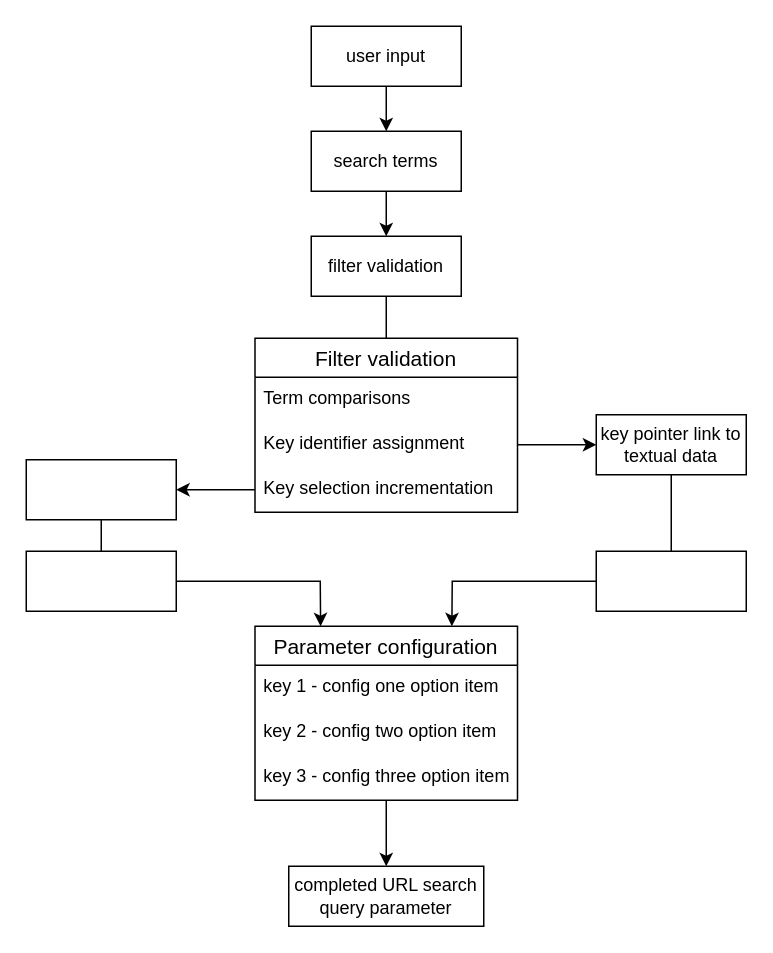
Image size: 773x953. Some labels were removed from this diagram. The shapes that lost their labels are listed below. From the top down, each one's centre as x and y in pixels, then its label:
At point (100, 489): "total selected filters".
At point (100, 580): "key for parameter configuration".
At point (670, 580): "option item formatting".
